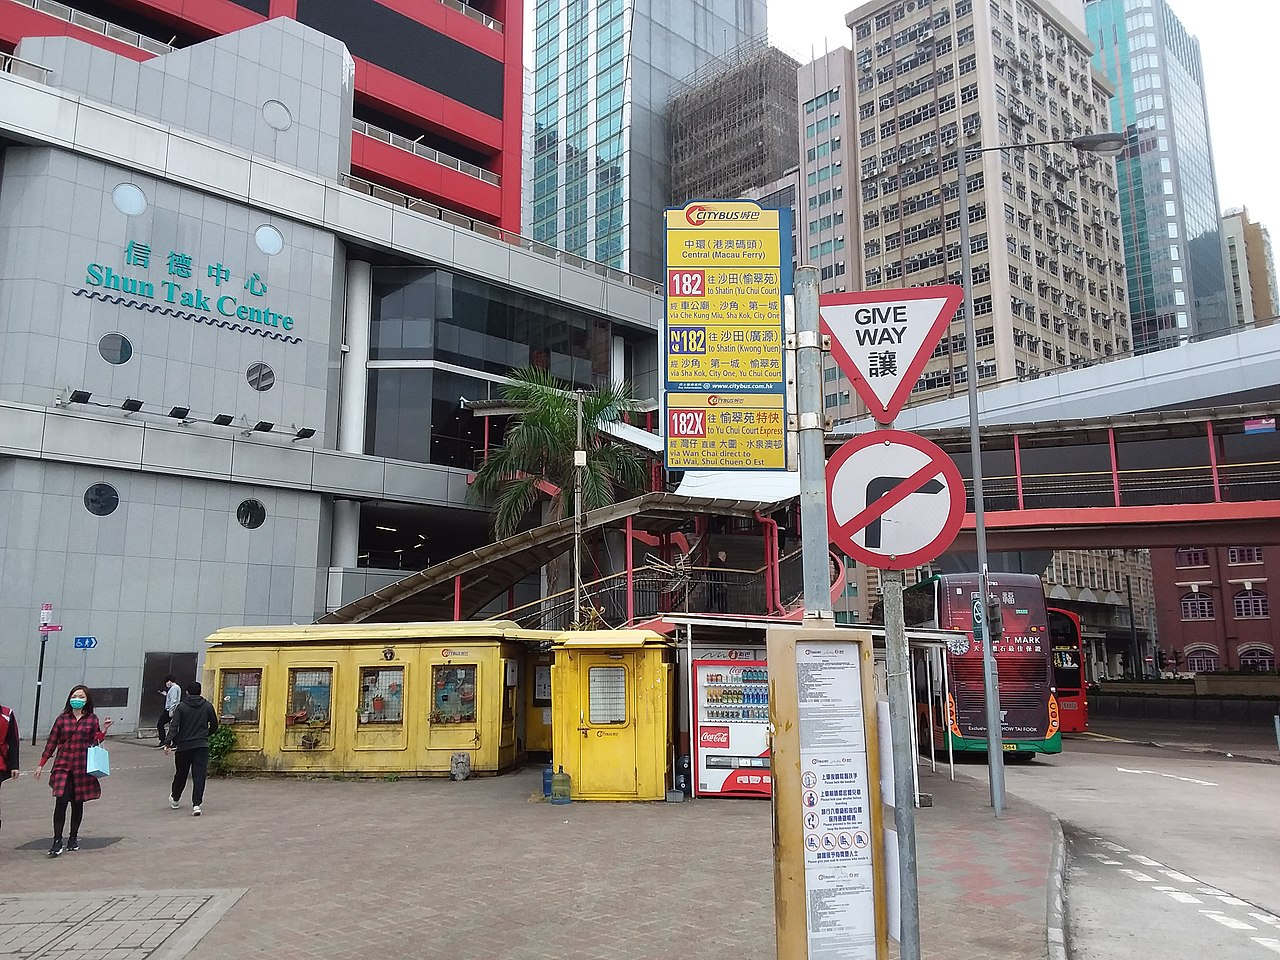Give Way: (822, 280, 974, 423)
No Turn Right: (819, 430, 984, 587)
